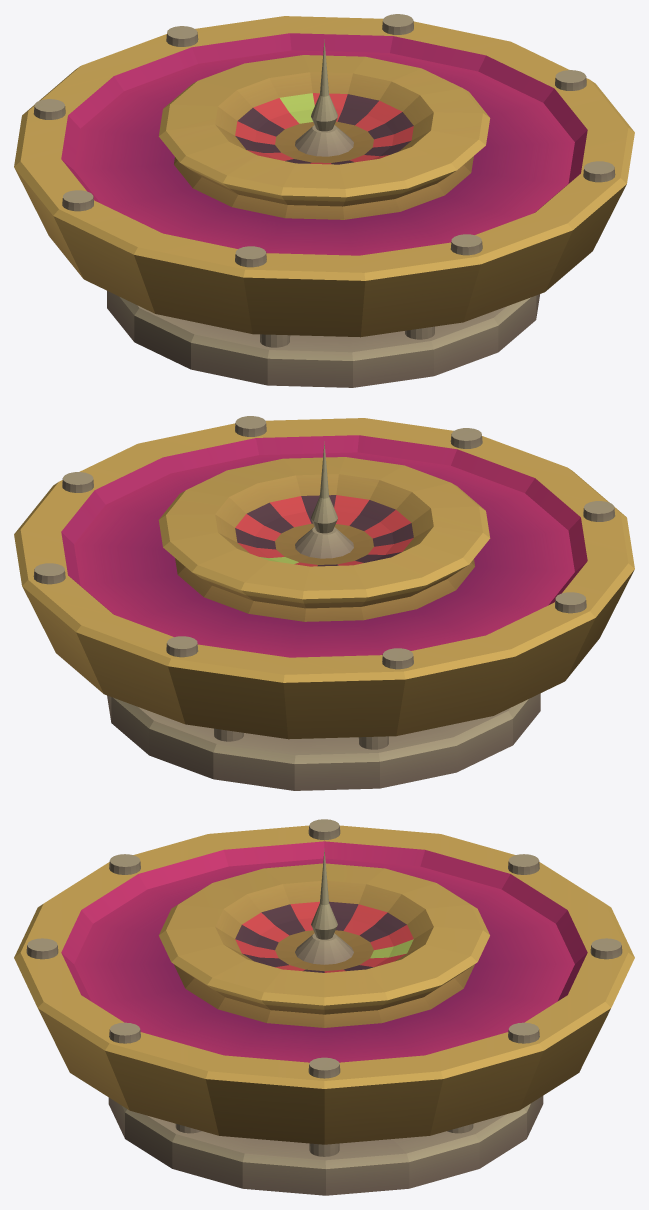
File: SM_Roullette.fbx
3 renders of one model, top to bottom at view 1: azimuth 30°, elevation 25°; view 2: azimuth 150°, elevation 25°; view 3: azimuth 270°, elevation 25°, orthographic.
Parts seen in each view (by area): view 1: SM_Roullete; view 2: SM_Roullete; view 3: SM_Roullete.
Part boxes in pixels (<box>): SM_Roullete: <box>14,14,634,387</box>; SM_Roullete: <box>14,416,634,790</box>; SM_Roullete: <box>14,819,634,1195</box>.
Size of the model in its own units: 297 by 297 by 135.
